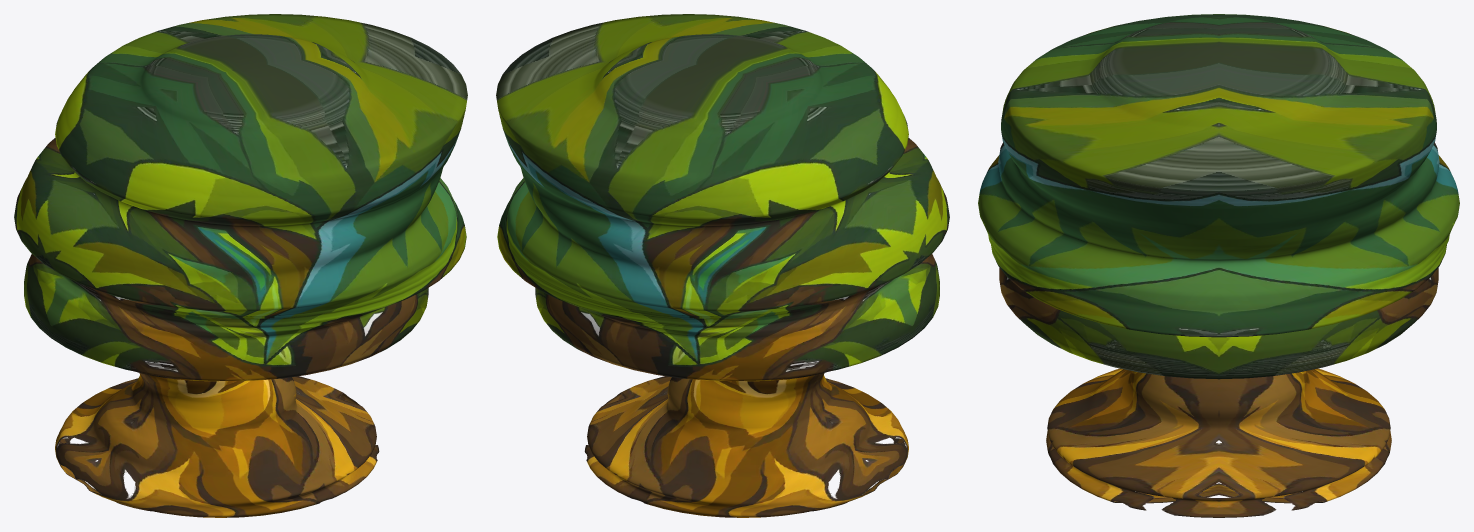
Rendered from hollow_tree.glb.
3 renders of one model, left to right at view 1: azimuth 30°, elevation 25°; view 2: azimuth 150°, elevation 25°; view 3: azimuth 270°, elevation 25°, orthographic. The views are drawn at different scales.
Visible parts, largest first — view 1: hollow_tree; view 2: hollow_tree; view 3: hollow_tree.
Part boxes in pixels (left/top/right/bottom): hollow_tree: left=14, top=14, right=467, bottom=517; hollow_tree: left=496, top=14, right=949, bottom=517; hollow_tree: left=978, top=14, right=1459, bottom=517.
Size of the model in its own units: 0.9968 by 0.9386 by 0.9623.
1 material, 1 textured.
